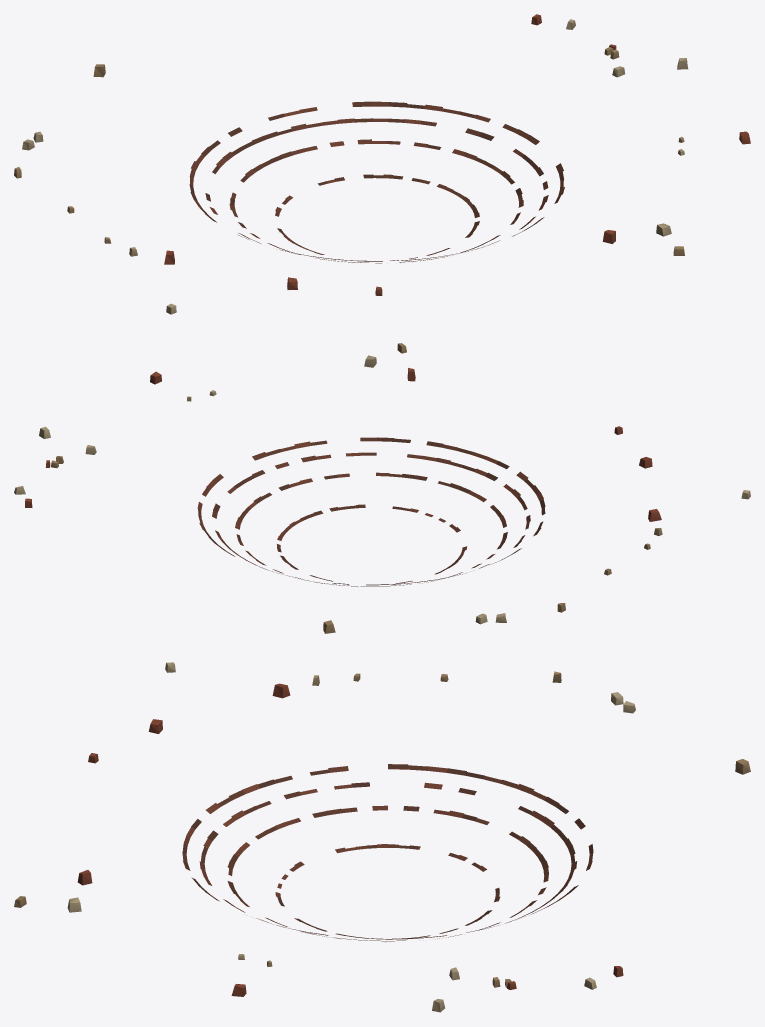
File: crater_event_detail1.glb
3 views of the same model, one above another, from view 1: azimuth 30°, elevation 25°; view 2: azimuth 150°, elevation 25°; view 3: azimuth 270°, elevation 25° (orthographic). The views are drawn at different scales.
Parts seen in each view (by area): view 1: Detail1; view 2: Detail1; view 3: Detail1.
Boxes of the visible parts, x1,y1,x2,y2 form: Detail1: [14, 14, 750, 314]; Detail1: [14, 343, 750, 633]; Detail1: [14, 662, 750, 1012].
Bounding box in the file's own units: 75.78 × 7.44 × 68.54.
